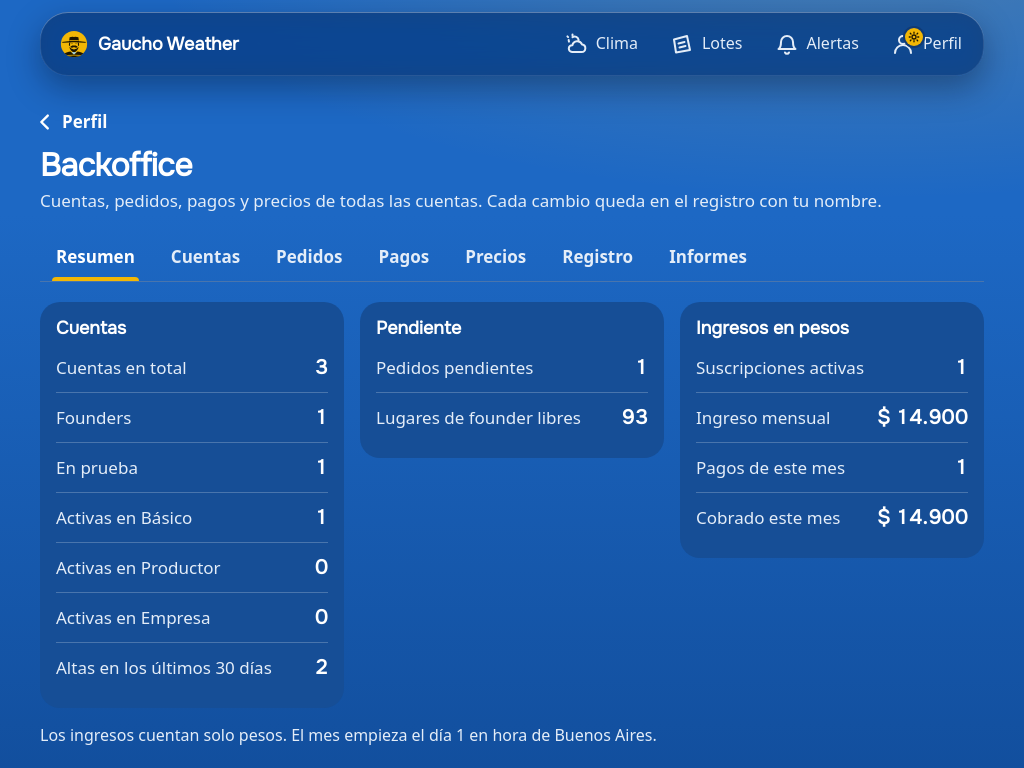
Test: The backoffice never gives a founder Empresa (SF4) › refuses to apply a founder’s request for Empresa and keeps it pending
What coordinates should you click on to do the following:
click the tab "Pedidos"
I would click on:
 (309, 257)
Its box is [260,233,358,281].
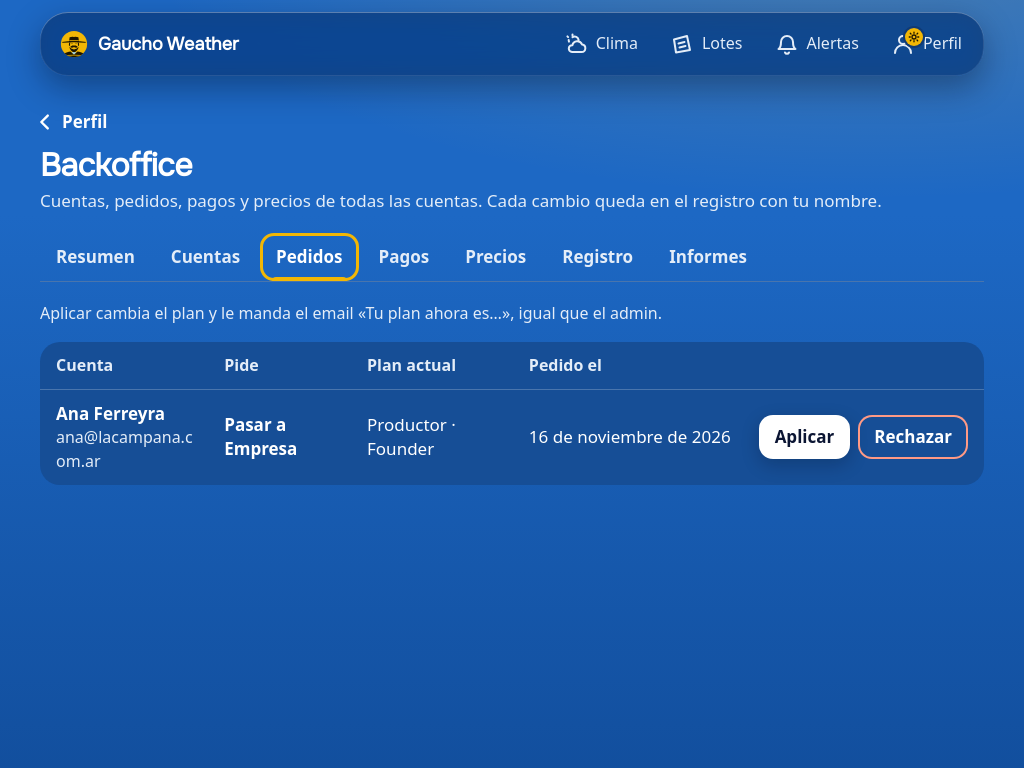
What coordinates should you click on to do the following:
click the button "Aplicar"
I would click on:
 (804, 437)
Its box is [759,415,850,459].
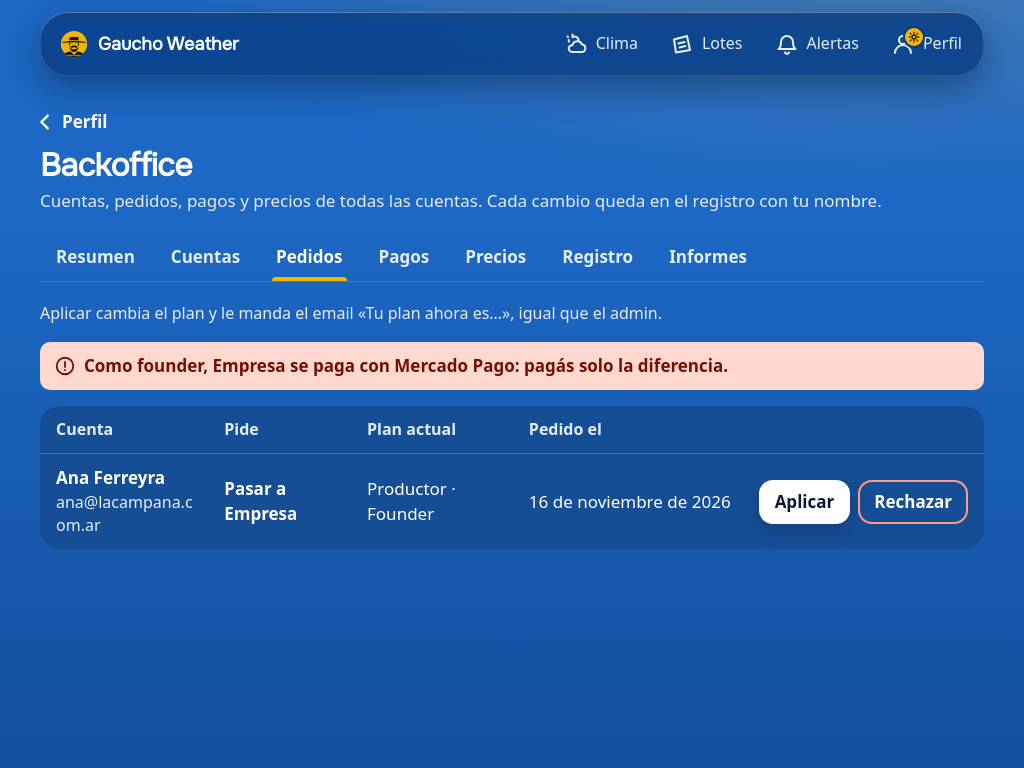
Now the message reads "Como founder, Empresa se paga con Mercado Pago: pagás solo la diferencia.", box [84,354,728,377]
